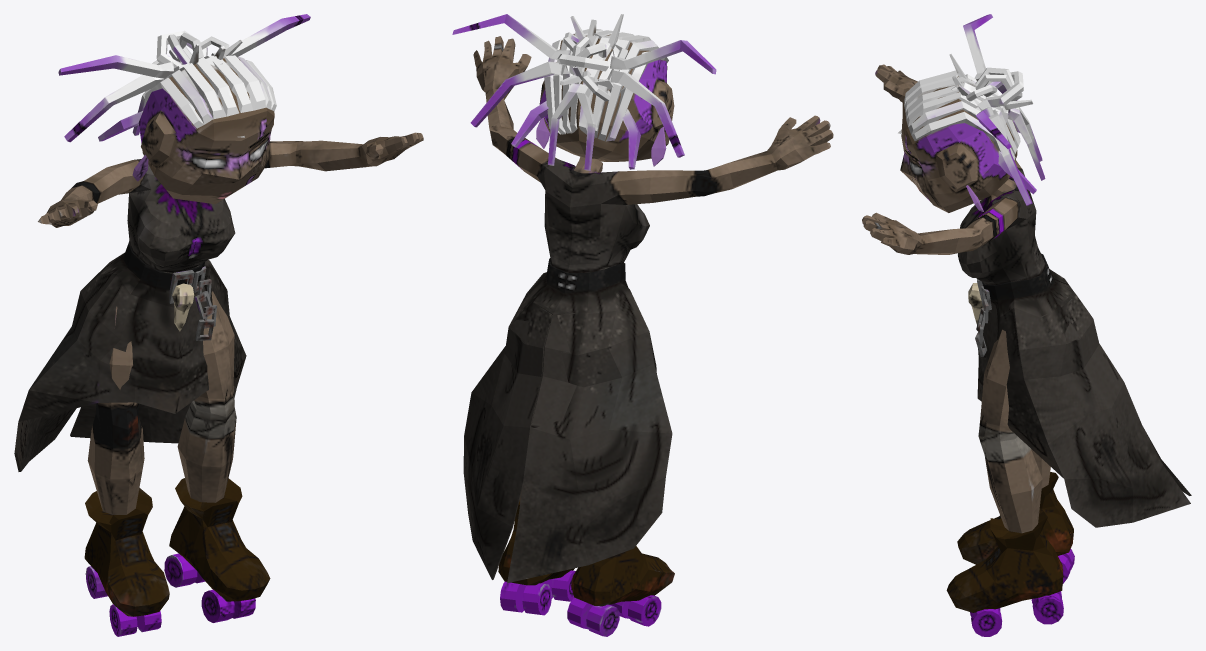
File: bruja_000214.obj
3 renders of one model, left to right at view 1: azimuth 30°, elevation 25°; view 2: azimuth 150°, elevation 25°; view 3: azimuth 270°, elevation 25°, orthographic. The views are drawn at different scales.
Visible parts, largest first — view 1: Bruja_Plane.001; view 2: Bruja_Plane.001; view 3: Bruja_Plane.001.
Part boxes in pixels (x1,y1,x2,y2): Bruja_Plane.001: [14, 14, 423, 636]; Bruja_Plane.001: [452, 14, 833, 636]; Bruja_Plane.001: [862, 14, 1191, 636].
Size of the model in its own units: 10.73 by 16.42 by 8.88.
